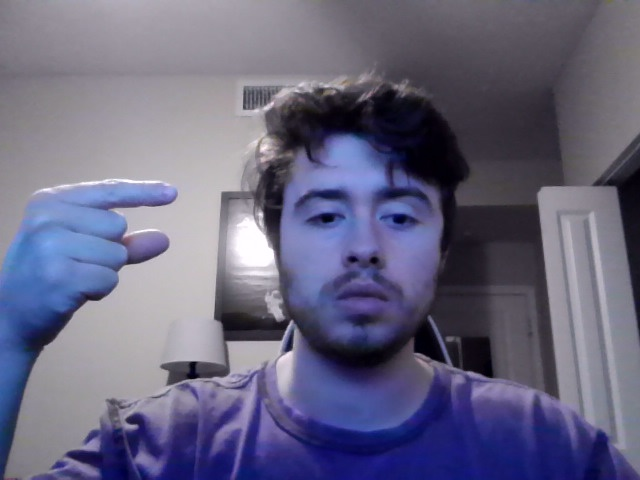g: (1, 176, 180, 356)
